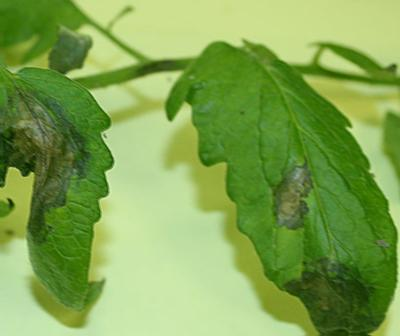Tomato leaf late blight: (160, 13, 398, 336), (0, 60, 126, 325)
